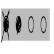correct: (16, 14, 22, 36)
not correct: (1, 9, 10, 43)
